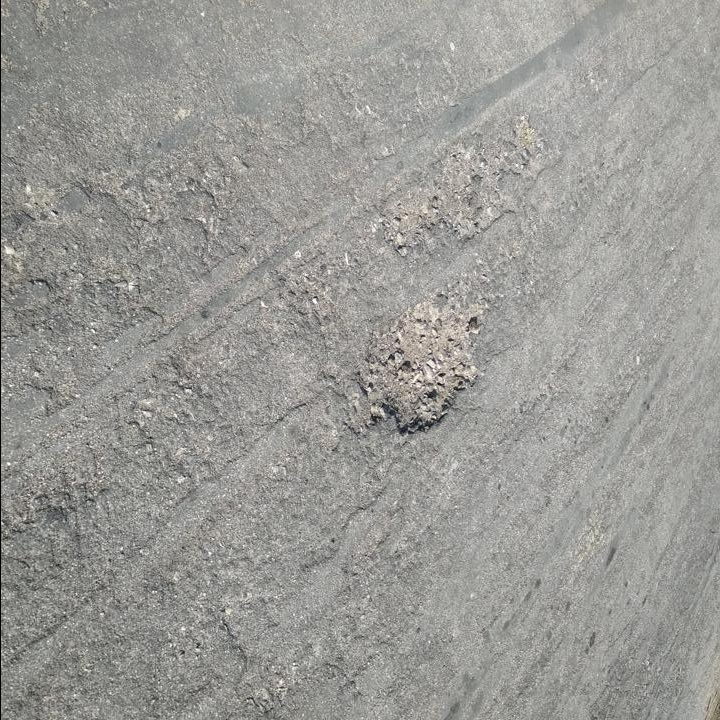pothole: (375, 109, 542, 259), (355, 286, 489, 439)
